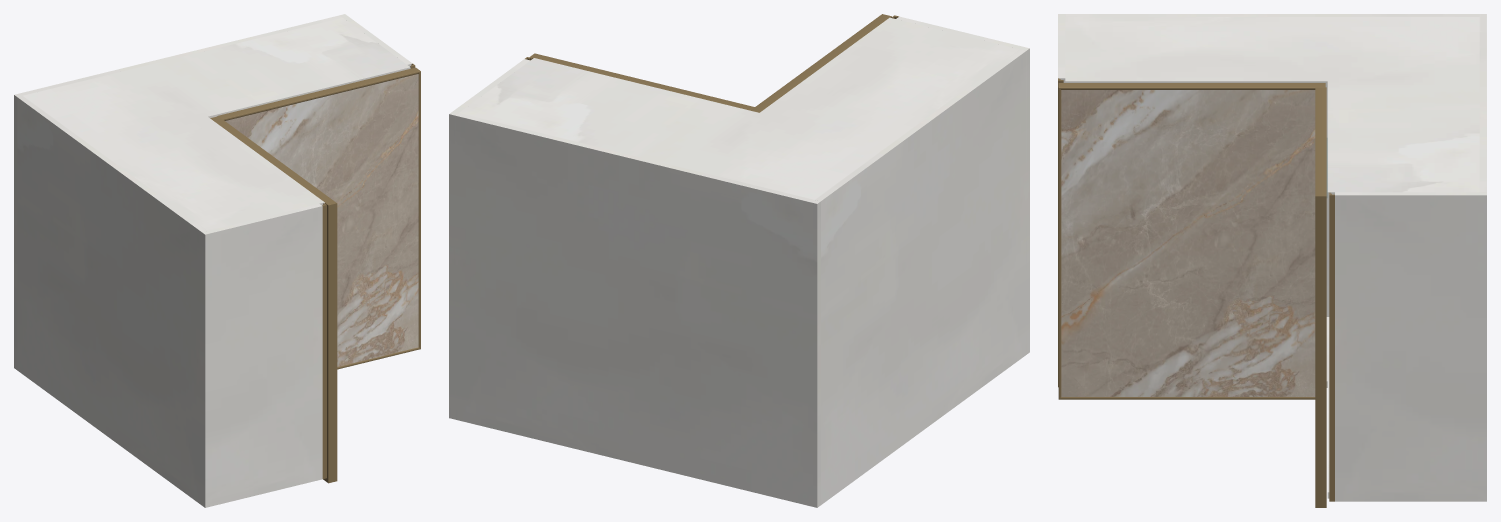
The model's file is WLC-SH-NHX-ST-2SG-XXX-XXX-900-725-336-15.glb.
3 views of the same model, side by side, from view 1: azimuth 30°, elevation 25°; view 2: azimuth 150°, elevation 25°; view 3: azimuth 270°, elevation 25° (orthographic). The views are drawn at different scales.
Parts seen in each view (by area): view 1: TP_node_0, TP, TP_node_2, Object_node_17, Extrusion_node_5, TP_node_1, Extrusion, Object_node_5, Extrusion_node_2, Extrusion_node; view 2: TP_node_1, TP_node_0, TP, TP_node, TP_node_2, Extrusion_node_2, Extrusion; view 3: Object_node_19, TP_node, TP, Extrusion_node, TP_node_0, Extrusion_node_2, Object_node_11, TP_node_1, Extrusion, Extrusion_node_5, Extrusion_node_4, TP_node_3 (+1 smaller).
Part boxes in pixels (box(x1,y1,x2,y2)): TP_node_0: box(17, 95, 206, 505); TP: box(23, 17, 410, 230); TP_node_2: box(202, 204, 322, 507); Object_node_17: box(225, 74, 418, 366); Extrusion_node_5: box(326, 203, 337, 483); TP_node_1: box(14, 15, 342, 369); Extrusion: box(218, 67, 420, 120); Object_node_5: box(322, 203, 326, 478); Extrusion_node_2: box(210, 116, 336, 206); Extrusion_node: box(418, 72, 420, 348); TP_node_1: box(455, 113, 820, 507); TP_node_0: box(815, 49, 1026, 504); TP: box(459, 17, 1019, 199); TP_node: box(449, 59, 530, 419); TP_node_2: box(896, 16, 1029, 354); Extrusion_node_2: box(751, 14, 891, 112); Extrusion: box(529, 53, 754, 110); Object_node_19: box(1061, 90, 1315, 396); TP_node: box(1335, 192, 1486, 501); TP: box(1065, 17, 1479, 198); Extrusion_node: box(1315, 196, 1326, 507); TP_node_0: box(1065, 14, 1479, 316); Extrusion_node_2: box(1058, 83, 1325, 89); Object_node_11: box(1329, 192, 1334, 501); TP_node_1: box(1479, 14, 1486, 192); Extrusion: box(1315, 87, 1326, 196); Extrusion_node_5: box(1058, 88, 1061, 399); Extrusion_node_4: box(1059, 397, 1315, 399); TP_node_3: box(1326, 317, 1329, 498).
Size of the model in its own units: 0.9 by 0.725 by 0.9.
6 materials, 2 textured.
